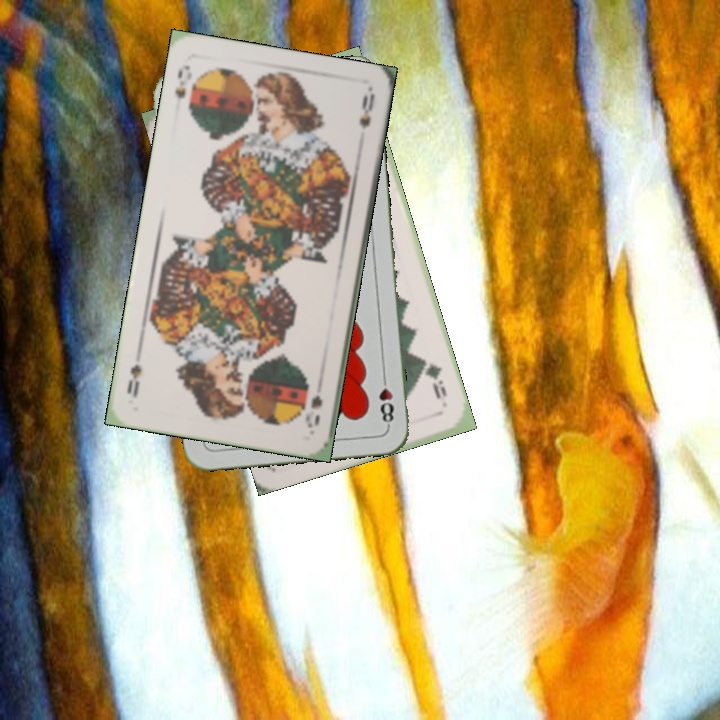G9: (419, 355, 450, 401)
H8: (375, 369, 396, 429)
SO: (170, 61, 193, 102), (301, 391, 325, 430)
